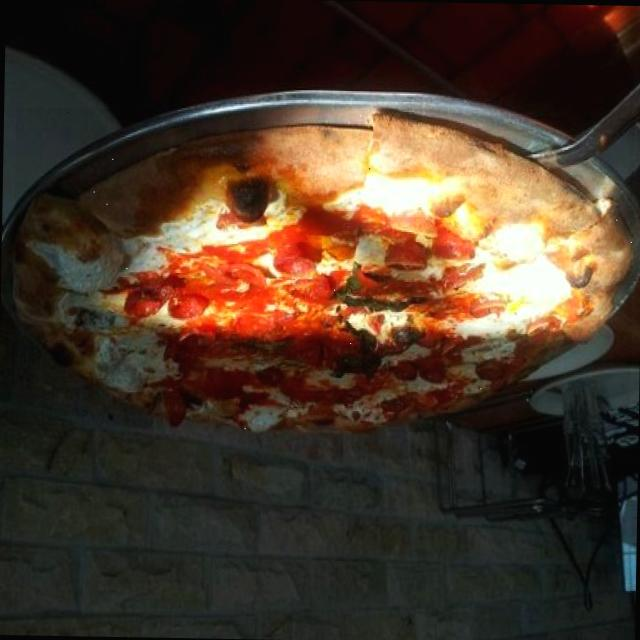basil: (319, 260, 426, 314), (330, 316, 386, 386), (385, 320, 428, 351)
pepperoni: (130, 268, 173, 322), (428, 226, 479, 270), (270, 236, 322, 278), (214, 256, 270, 290), (172, 326, 220, 360), (168, 290, 209, 327), (386, 241, 430, 274), (472, 356, 510, 386), (418, 358, 448, 390), (392, 360, 419, 386)
pizza: (13, 113, 631, 431)
